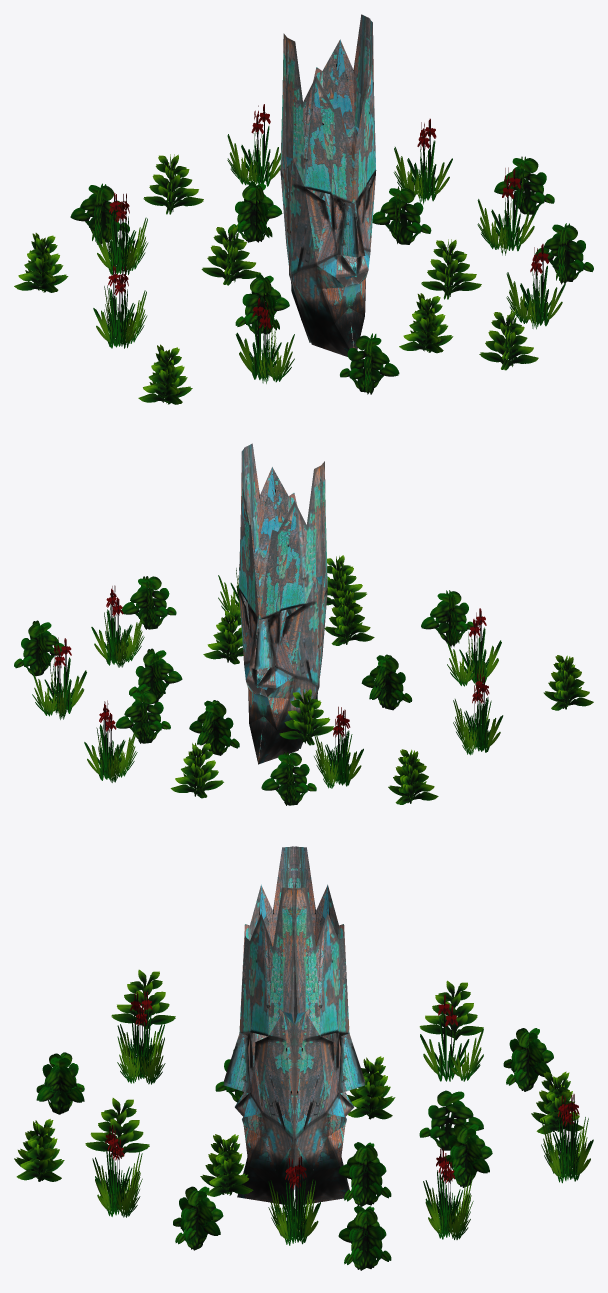
File: Mask.obj
3 renders of one model, top to bottom at view 1: azimuth 30°, elevation 25°; view 2: azimuth 150°, elevation 25°; view 3: azimuth 270°, elevation 25°, orthographic. The views are drawn at different scales.
Visible parts, largest first — view 1: Mask_Cylinder, Plane.001_Plane.031, Plane.010_Plane.040, Plane.020_Plane.050, Plane.004_Plane.034, Plane.007_Plane.037, Plane.013_Plane.043, Plane.016_Plane.046, Plane.019_Plane.049, Plane.006_Plane.036, Plane.009_Plane.039, Plane.003_Plane.033 (+10 smaller); view 2: Mask_Cylinder, Plane.013_Plane.043, Plane.001_Plane.031, Plane.010_Plane.040, Plane.016_Plane.046, Plane.007_Plane.037, Plane.020_Plane.050, Plane.015_Plane.053, Plane.012_Plane.042, Plane.003_Plane.033, Plane.019_Plane.049, Plane_Plane.029 (+10 smaller); view 3: Mask_Cylinder, Plane.020_Plane.050, Plane.016_Plane.046, Plane.007_Plane.037, Plane.013_Plane.043, Plane.004_Plane.034, Plane.018_Plane.048, Plane.006_Plane.036, Plane.003_Plane.033, Plane.010_Plane.040, Plane.015_Plane.053, Plane.019_Plane.049 (+9 smaller).
Part boxes in pixels (x1,y1,x2,y2): Mask_Cylinder: (280, 14, 376, 356); Plane.001_Plane.031: (93, 265, 147, 348); Plane.010_Plane.040: (94, 192, 148, 275); Plane.020_Plane.050: (235, 298, 294, 383); Plane.004_Plane.034: (506, 244, 565, 329); Plane.007_Plane.037: (477, 167, 537, 255); Plane.013_Plane.043: (393, 118, 452, 204); Plane.016_Plane.046: (227, 104, 280, 186); Plane.019_Plane.049: (340, 333, 399, 394); Plane.006_Plane.036: (372, 186, 431, 244); Plane.009_Plane.039: (228, 181, 282, 242); Plane.003_Plane.033: (535, 223, 593, 284); Mask_Cylinder: (239, 443, 327, 764); Plane.013_Plane.043: (32, 637, 86, 719); Plane.001_Plane.031: (453, 673, 503, 755); Plane.010_Plane.040: (314, 706, 363, 788); Plane.016_Plane.046: (84, 700, 137, 782); Plane.007_Plane.037: (91, 585, 144, 667); Plane.020_Plane.050: (447, 608, 501, 686); Plane.015_Plane.053: (261, 752, 316, 805); Plane.012_Plane.042: (115, 690, 170, 743); Plane.003_Plane.033: (121, 576, 176, 629); Plane.019_Plane.049: (421, 590, 475, 647); Plane_Plane.029: (361, 654, 412, 710); Mask_Cylinder: (223, 846, 365, 1204); Plane.020_Plane.050: (117, 991, 165, 1084); Plane.016_Plane.046: (541, 1094, 593, 1183); Plane.007_Plane.037: (268, 1156, 320, 1245); Plane.013_Plane.043: (423, 1148, 473, 1239); Plane.004_Plane.034: (92, 1125, 142, 1217); Plane.018_Plane.048: (338, 1206, 391, 1270); Plane.006_Plane.036: (338, 1142, 391, 1206); Plane.003_Plane.033: (173, 1186, 223, 1250); Plane.010_Plane.040: (420, 994, 483, 1081); Plane.015_Plane.053: (503, 1028, 553, 1091); Plane.019_Plane.049: (36, 1052, 84, 1114).
Bounding box in the file's own units: 177 × 103 × 164.
4 materials, 4 textured.
